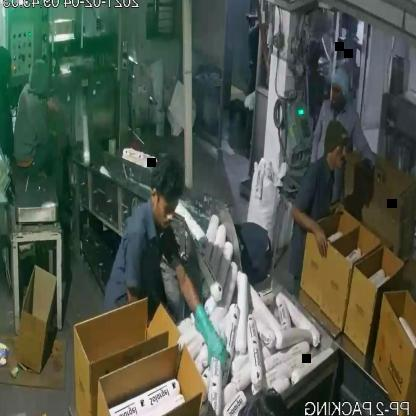glove: (188, 301, 237, 369)
no_glove: (286, 203, 332, 253), (367, 152, 397, 201)
